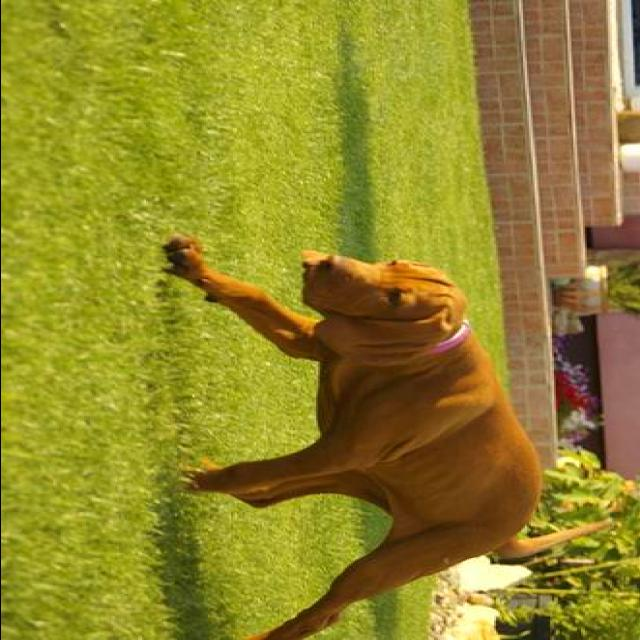vizsla: (163, 232, 616, 638)
